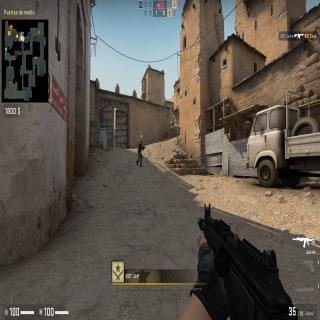T-Head: (141, 140, 143, 144)
